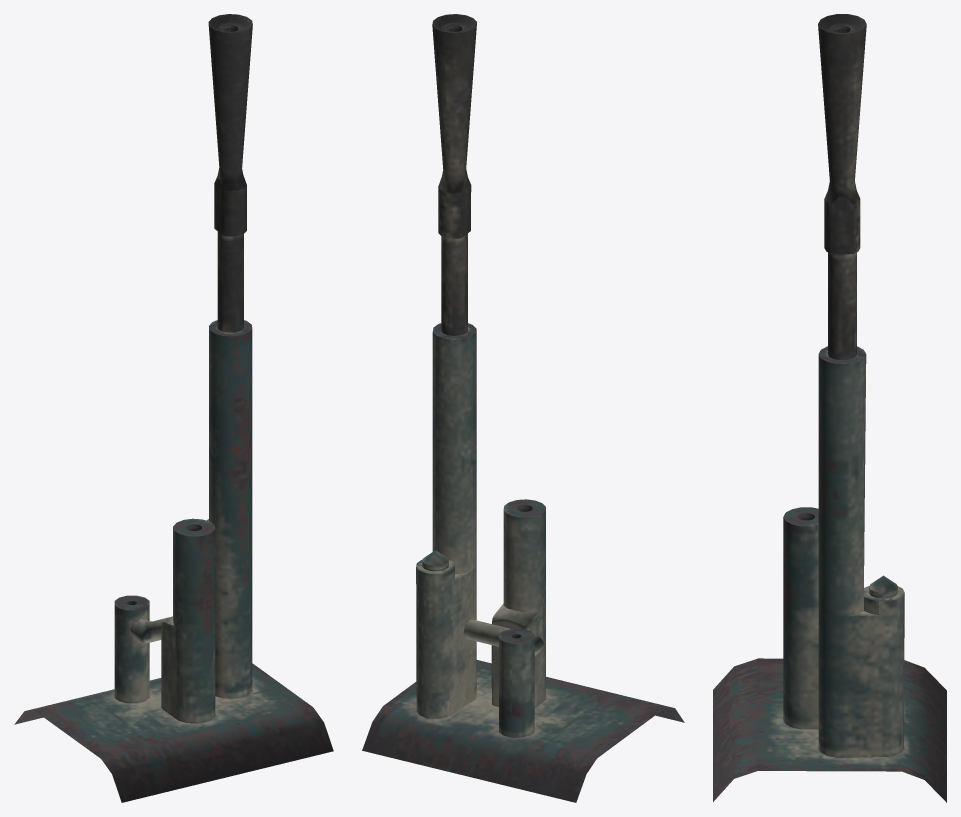
File: Gun_02.glb
3 views of the same model, side by side, from view 1: azimuth 30°, elevation 25°; view 2: azimuth 150°, elevation 25°; view 3: azimuth 270°, elevation 25° (orthographic). The views are drawn at different scales.
Visible parts, largest first — view 1: set_0_group_0; view 2: set_0_group_0; view 3: set_0_group_0.
Part boxes in pixels (box(x1,y1,x2,y2)): set_0_group_0: box(14, 14, 333, 802); set_0_group_0: box(362, 14, 684, 802); set_0_group_0: box(713, 14, 946, 802).
Size of the model in its own units: 0.379 by 1.19 by 0.3331.
1 material, 1 textured.
